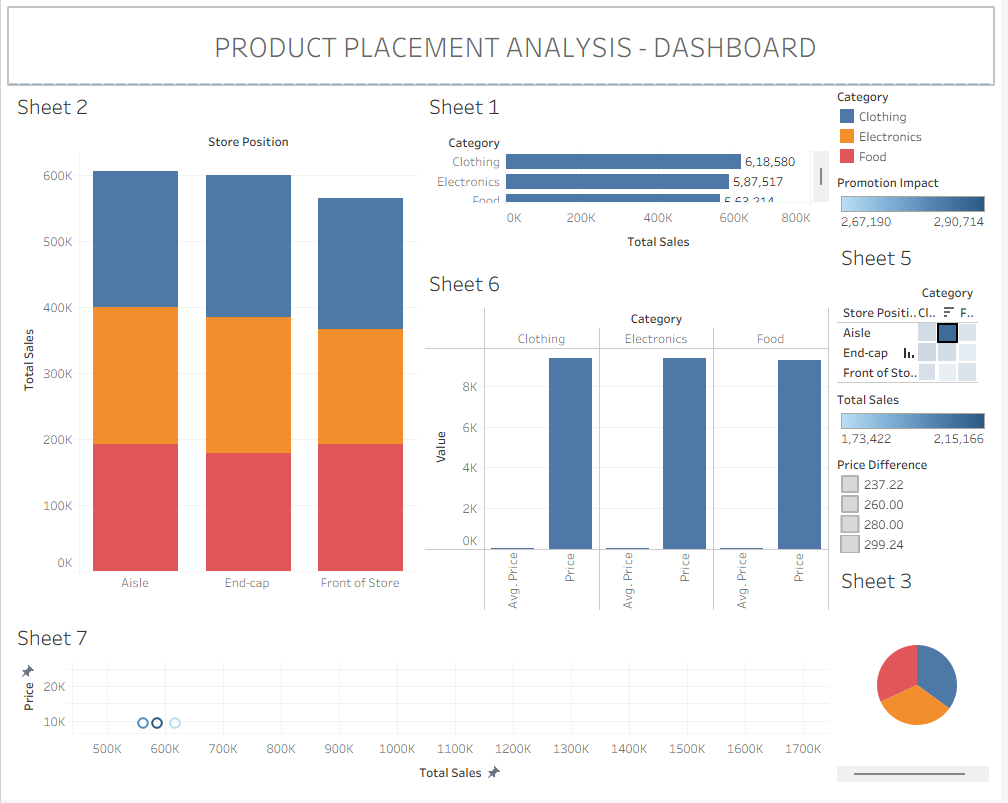

This screenshot's page, from the dashboard's own definition file:
{"tool":"tableau","page":{"name":"Dashboard 1","canvas":[1000,800],"ordinal":0},"visuals":[{"type":"text","box":[8,8,984,76]},{"type":"worksheet","title":"Sheet 2","mark":"Automatic","rows":["Sales Volume"],"cols":["Product Position"],"box":[8,84,412,531]},{"type":"worksheet","title":"Sheet 1","mark":"Automatic","rows":["Product Category"],"cols":["Sales Volume"],"box":[420,84,412,177]},{"type":"legend","title":"Sheet 2","param":"[federated.01uxr511n5bovg1cs3r7v10gsn40].[none:Product Category:nk]","box":[832,84,160,86]},{"type":"legend","title":"Sheet 7","param":"[federated.01uxr511n5bovg1cs3r7v10gsn40].[sum:Calculation_2373067242999810:qk]","box":[832,170,160,65]},{"type":"worksheet","title":"Sheet 5","mark":"Automatic","rows":["Product Position"],"cols":["Product Category"],"box":[832,235,160,152]},{"type":"worksheet","title":"Sheet 6","mark":"Automatic","cols":["Product Category"],"box":[420,261,412,354]},{"type":"legend","title":"Sheet 5","param":"[federated.01uxr511n5bovg1cs3r7v10gsn40].[sum:Sales Volume:qk]","box":[832,387,160,65]},{"type":"legend","title":"Sheet 5","param":"[federated.01uxr511n5bovg1cs3r7v10gsn40].[sum:Calculation_2373067242876929:qk]","box":[832,452,160,106]},{"type":"worksheet","title":"Sheet 3","mark":"Pie","box":[832,558,160,228]},{"type":"worksheet","title":"Sheet 7","mark":"Automatic","rows":["Price"],"cols":["Sales Volume"],"box":[8,615,824,177]}]}

Visuals, with their boxes in screenshot pixels (x1, y1, x2, y2), scaled from the page's 1000x800 canvas onto the 1008x803 screenshot:
text: x1=8, y1=8, x2=1000, y2=84
"Sheet 2" worksheet: x1=8, y1=84, x2=423, y2=617
"Sheet 1" worksheet: x1=423, y1=84, x2=839, y2=262
"Sheet 2" legend: x1=839, y1=84, x2=1000, y2=171
"Sheet 7" legend: x1=839, y1=171, x2=1000, y2=236
"Sheet 5" worksheet: x1=839, y1=236, x2=1000, y2=388
"Sheet 6" worksheet: x1=423, y1=262, x2=839, y2=617
"Sheet 5" legend: x1=839, y1=388, x2=1000, y2=454
"Sheet 5" legend: x1=839, y1=454, x2=1000, y2=560
"Sheet 3" worksheet (Pie marks): x1=839, y1=560, x2=1000, y2=789
"Sheet 7" worksheet: x1=8, y1=617, x2=839, y2=795
